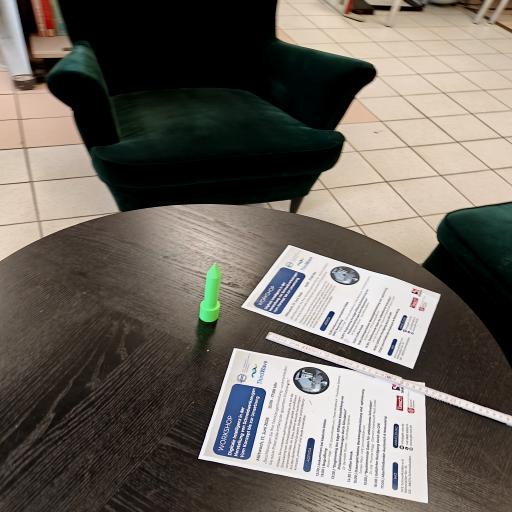Probe-Detection: (199, 263, 220, 323)
